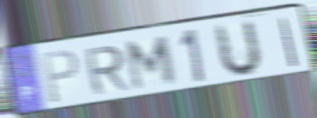1: (179, 27, 207, 86)
I: (278, 16, 299, 69)
M: (125, 34, 178, 92)
P: (40, 48, 81, 107)
R: (82, 44, 132, 97)
U: (214, 18, 263, 80)
